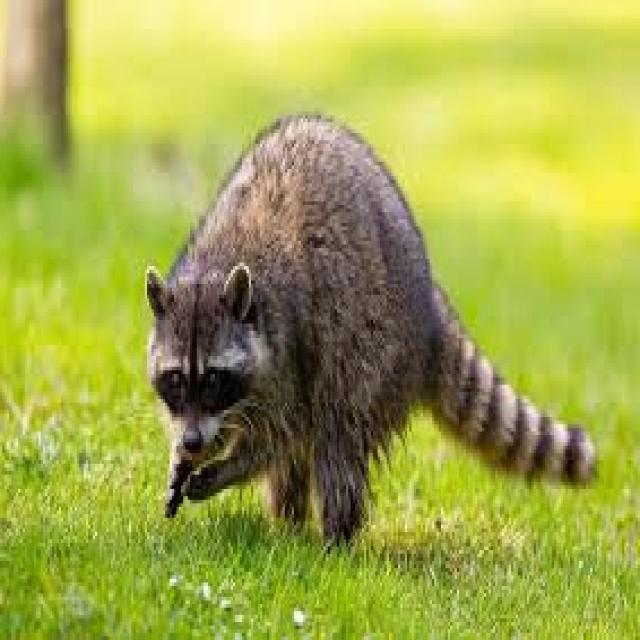raccoon: (147, 115, 597, 543)
